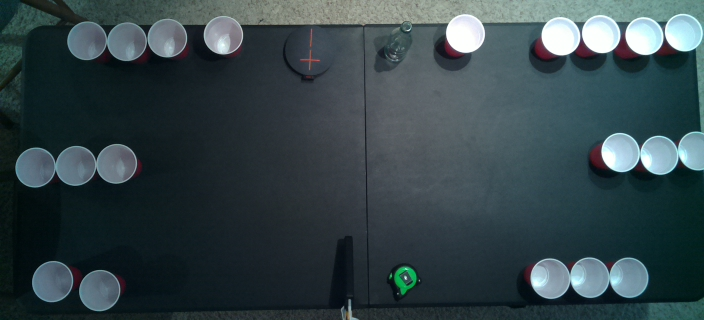active bp cup: (14, 146, 56, 188), (55, 144, 96, 186), (96, 143, 137, 184), (600, 132, 639, 173), (640, 135, 678, 174), (679, 131, 703, 170)
inactive bp cup: (30, 258, 73, 302), (78, 269, 121, 312), (527, 258, 570, 299), (609, 255, 650, 298), (540, 16, 581, 57), (66, 19, 106, 61), (202, 15, 244, 55), (107, 19, 146, 62), (444, 14, 485, 54), (624, 16, 663, 57), (147, 18, 188, 56), (571, 257, 609, 298), (582, 14, 620, 54), (665, 14, 703, 52)
